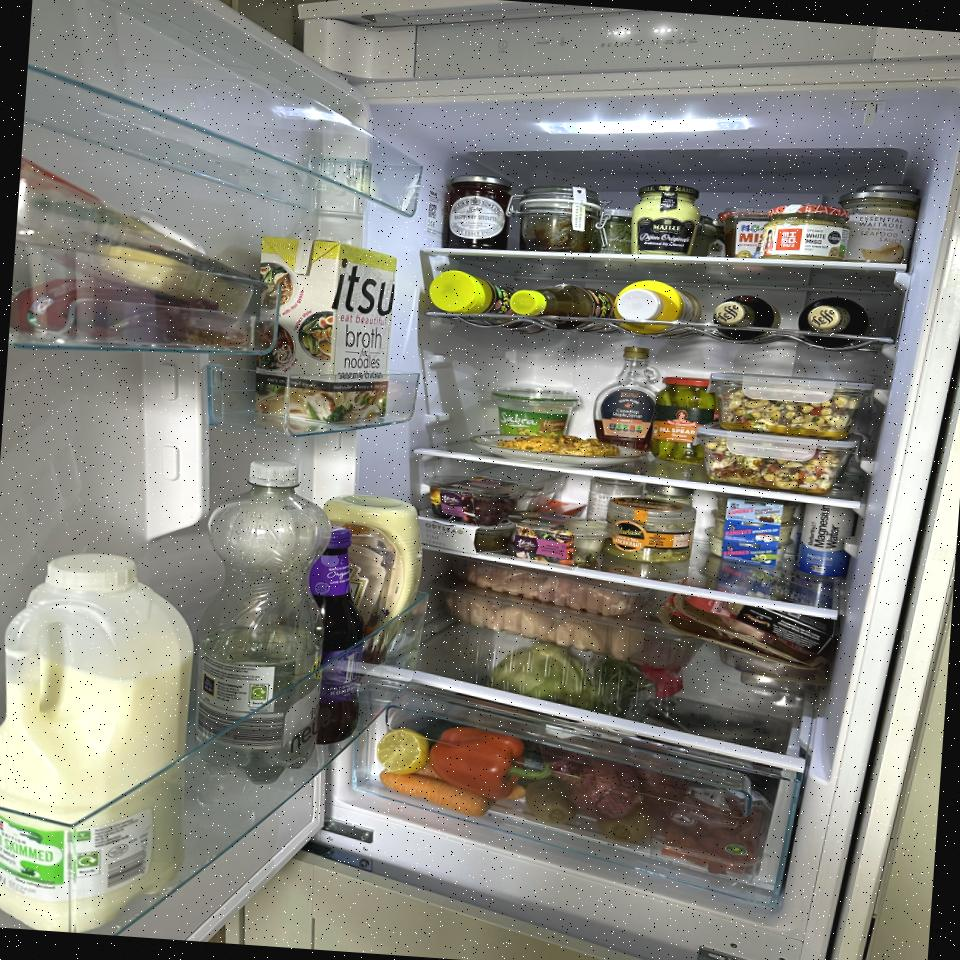Carne pollo: (436, 584, 657, 660)
Leche: (0, 546, 207, 940)
Lechuga/Endivia: (484, 638, 646, 716)
Limón: (376, 729, 426, 775)
Queso: (96, 244, 260, 318)
Zanahoria: (378, 772, 491, 820)
